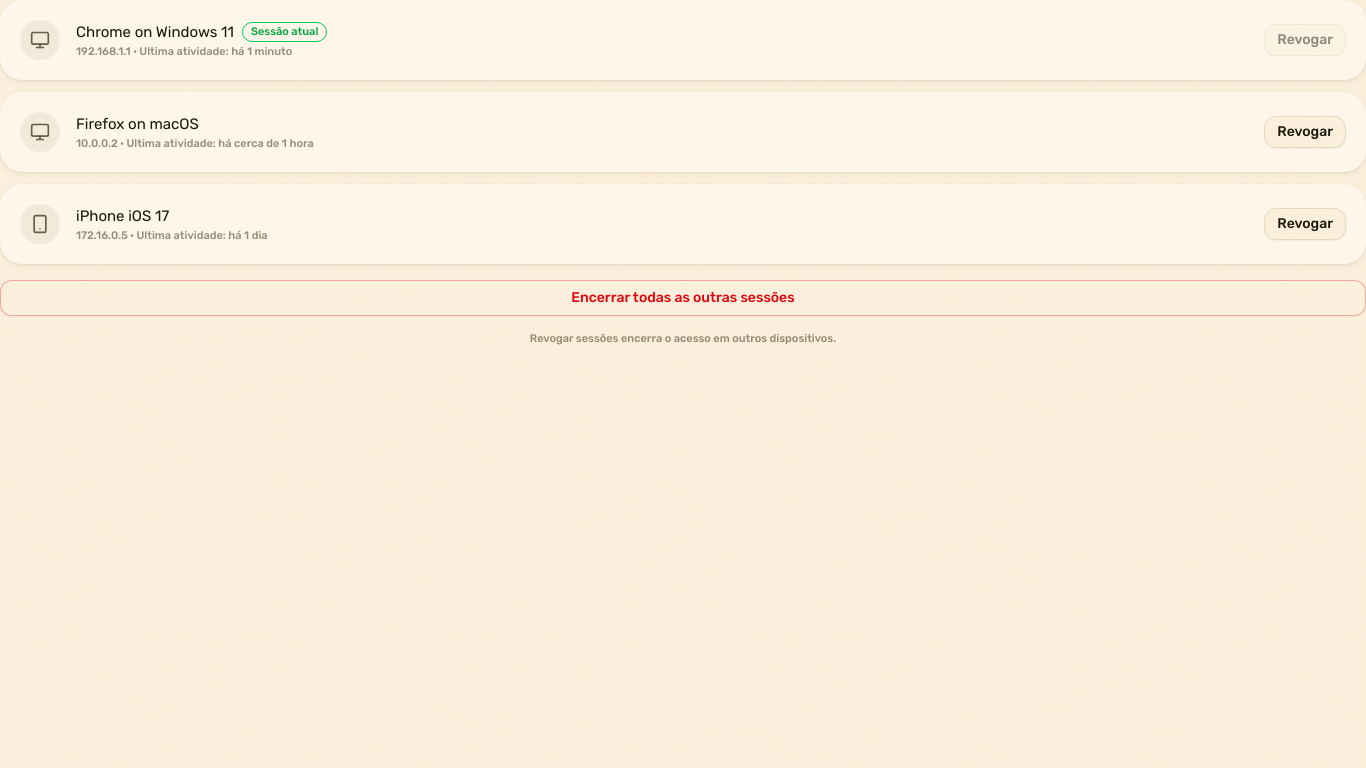
Scenario: SessionsSettingsClient › opens revoke dialog when clicking revoke on non-current session
Click the 2nd button "Revogar" at x=1305, y=132, box [1264, 116, 1346, 148]
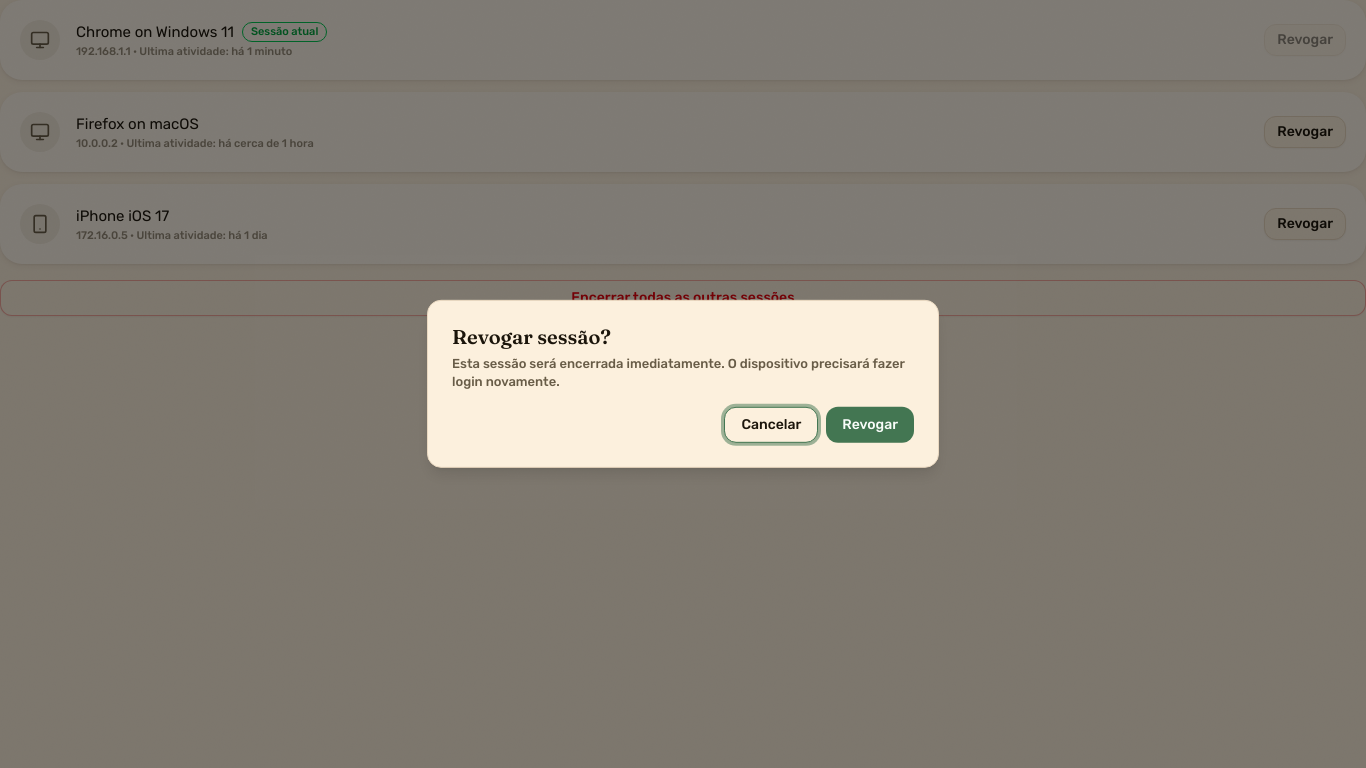
Expected: the heading "Revogar sessão?" is shown, [452, 325, 611, 349]
